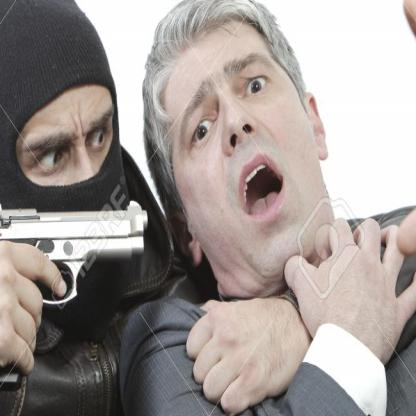gun: (0, 199, 149, 391)
